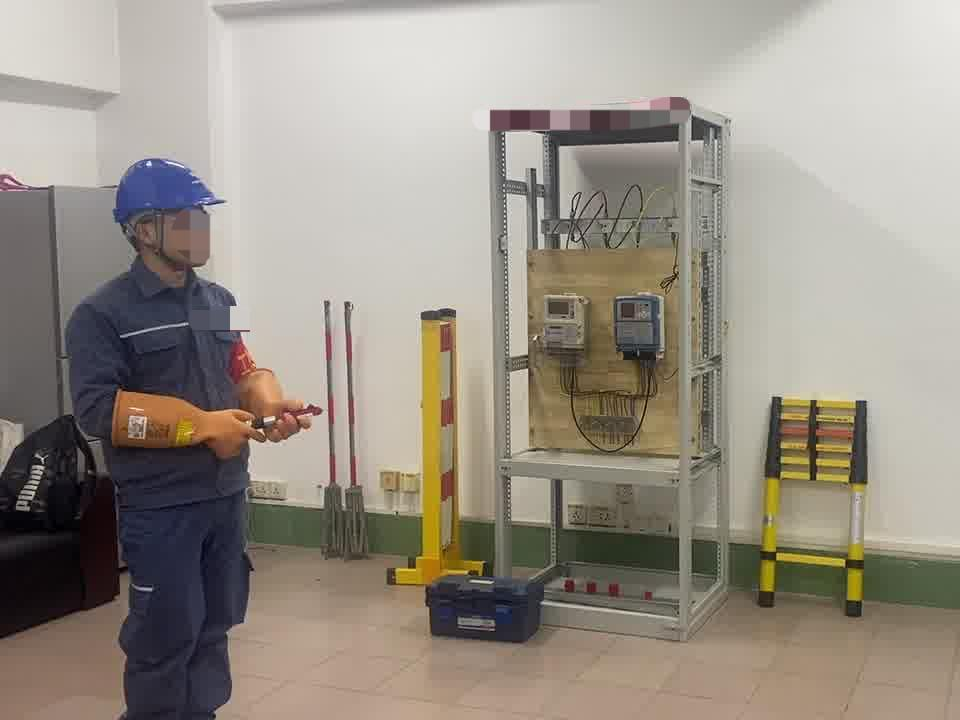halt: (114, 158, 228, 279)
inear: (127, 215, 178, 265)
